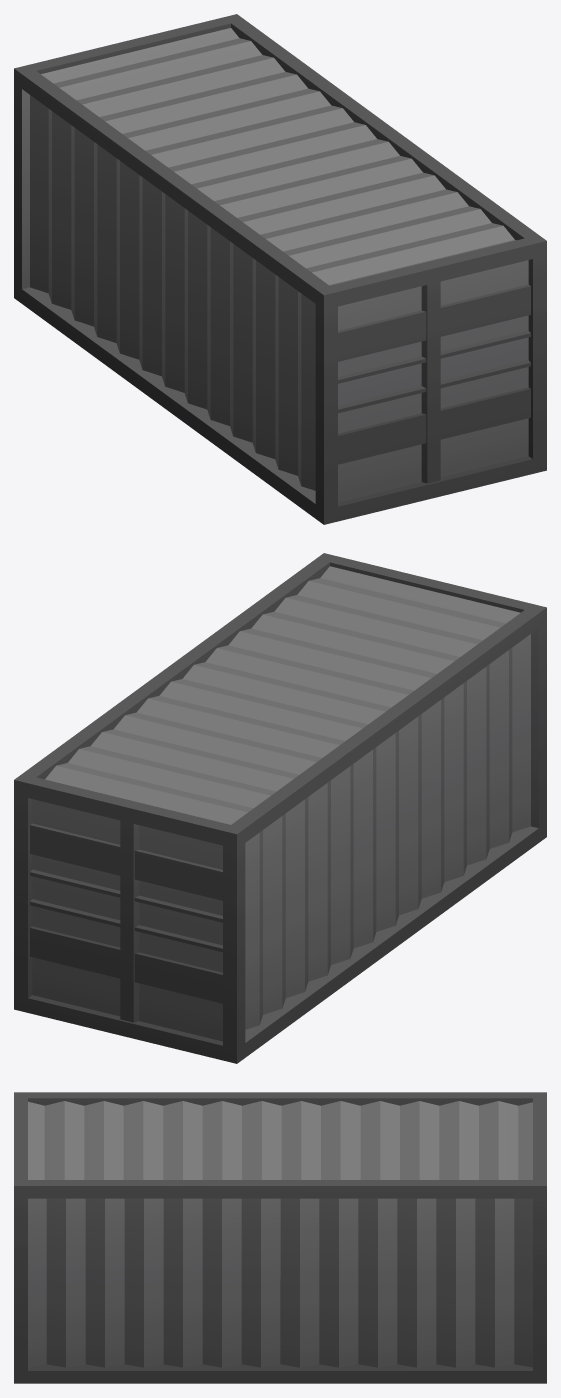
The model's file is Container_1_7.fbx.
3 renders of one model, top to bottom at view 1: azimuth 30°, elevation 25°; view 2: azimuth 150°, elevation 25°; view 3: azimuth 270°, elevation 25°, orthographic. The views are drawn at different scales.
Parts seen in each view (by area): view 1: Container_1_7; view 2: Container_1_7; view 3: Container_1_7.
Boxes of the visible parts, <box> form: Container_1_7: <box>14,14,546,524</box>; Container_1_7: <box>14,553,546,1063</box>; Container_1_7: <box>14,1092,546,1383</box>.
Size of the model in its own units: 198 by 195 by 477.
